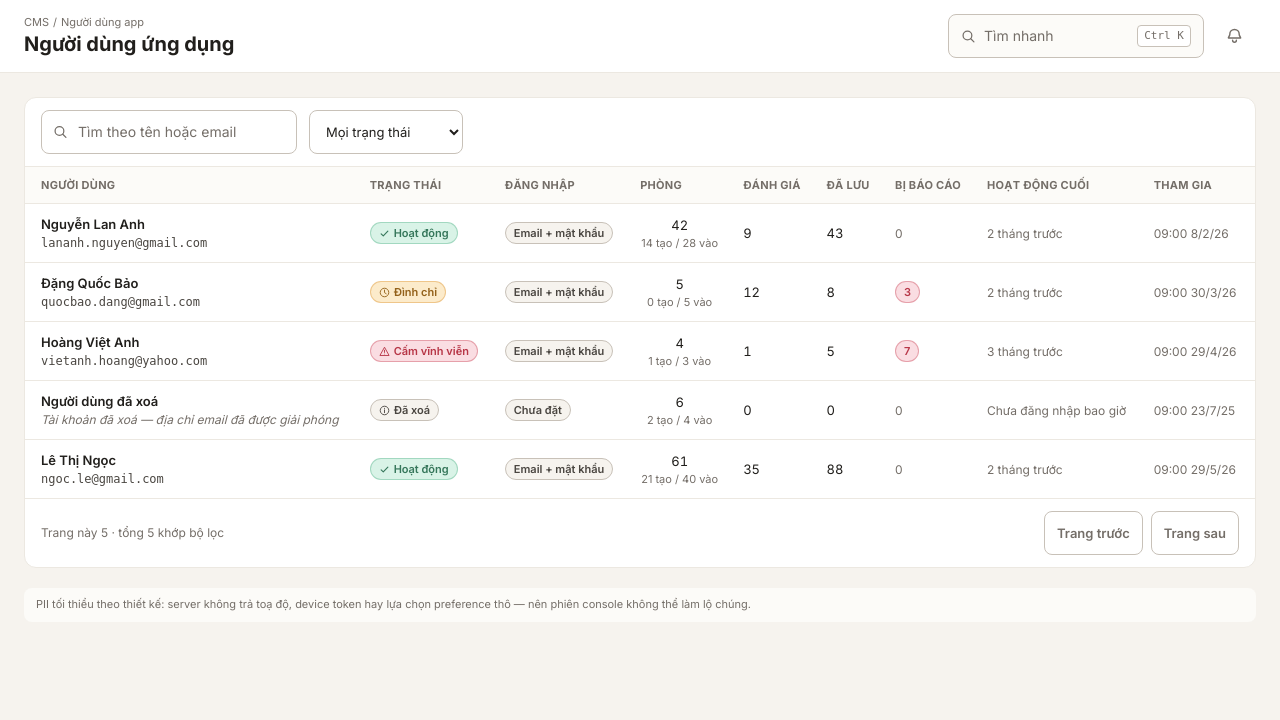
Test: secure export — direct user export (GoGo-BE#256) › explains 503 EXPORT_UNAVAILABLE in the console language
This screenshot has width=1280, height=720.
Step 1. Click the text "Nguyễn Lan Anh" → (93, 224), box x1=41 y1=216 x2=145 y2=232
(page scrolled)
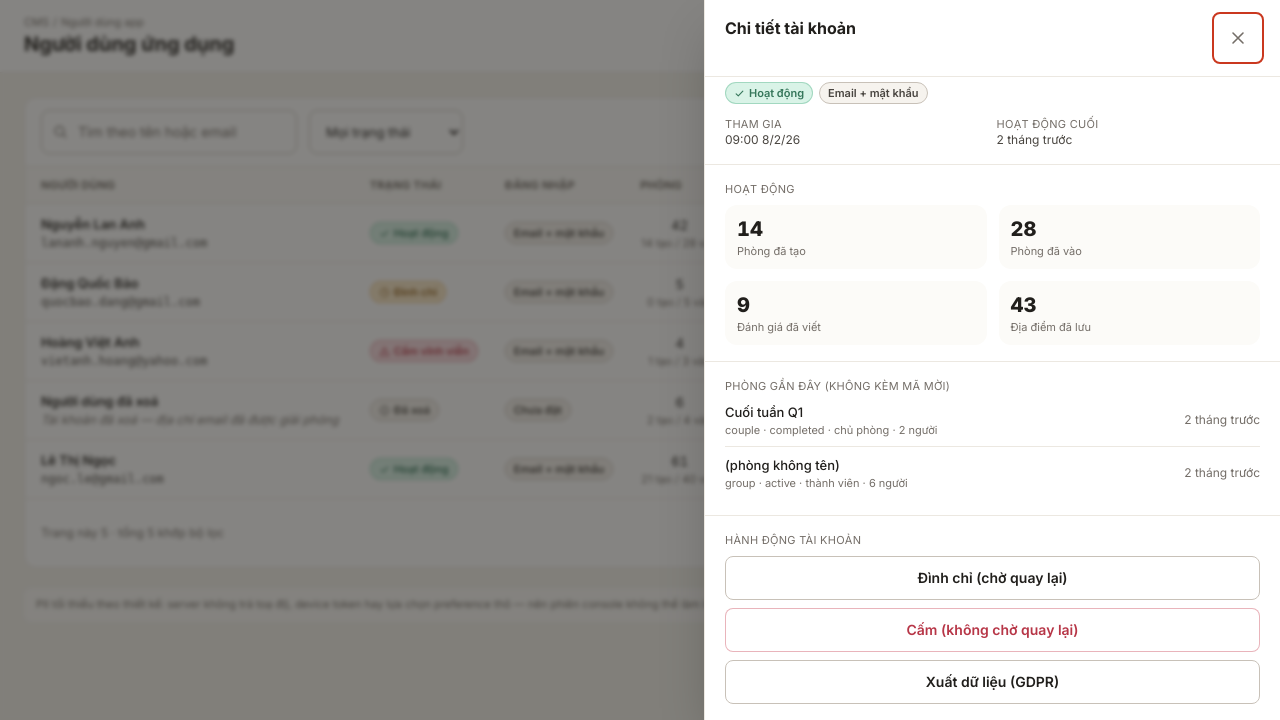
Step 2. Click the button "Xuất dữ liệu (GDPR)" → (992, 682), box x1=725 y1=660 x2=1260 y2=704
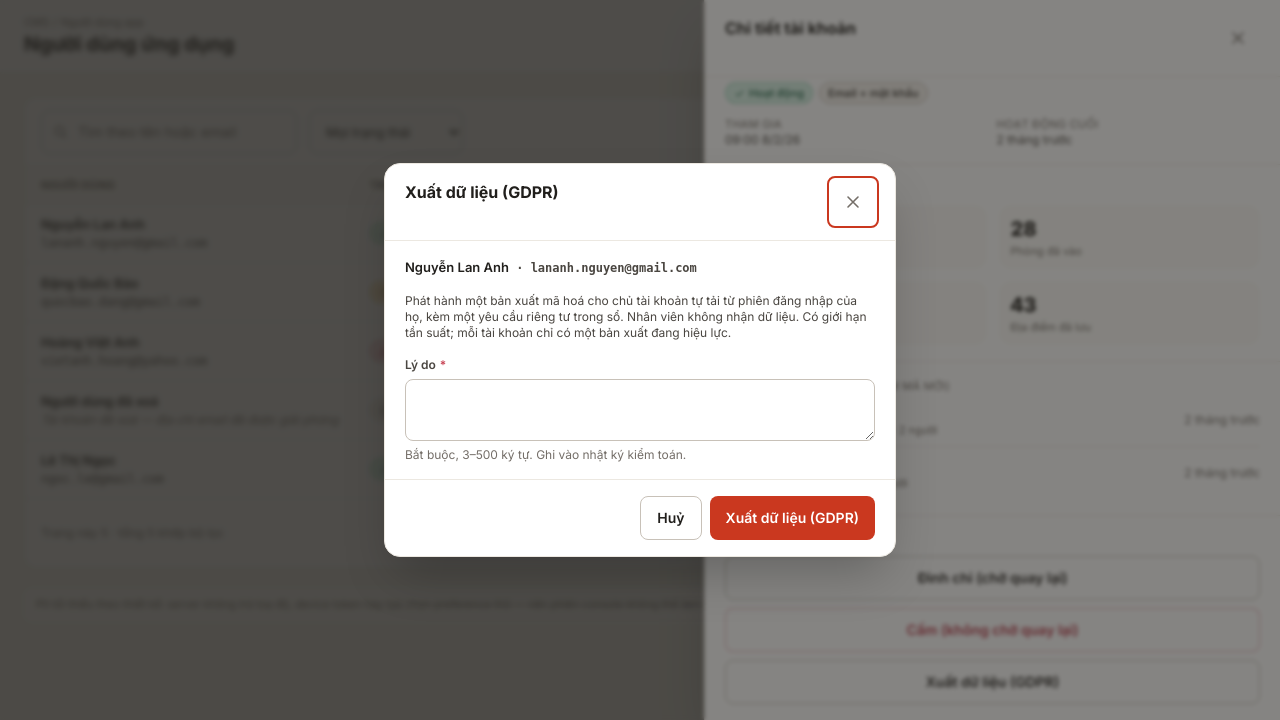
Step 3. Type "SUP-2001 yêu cầu bản sao" into the text box labelled "Lý do*" → (640, 410), box x1=405 y1=379 x2=875 y2=441
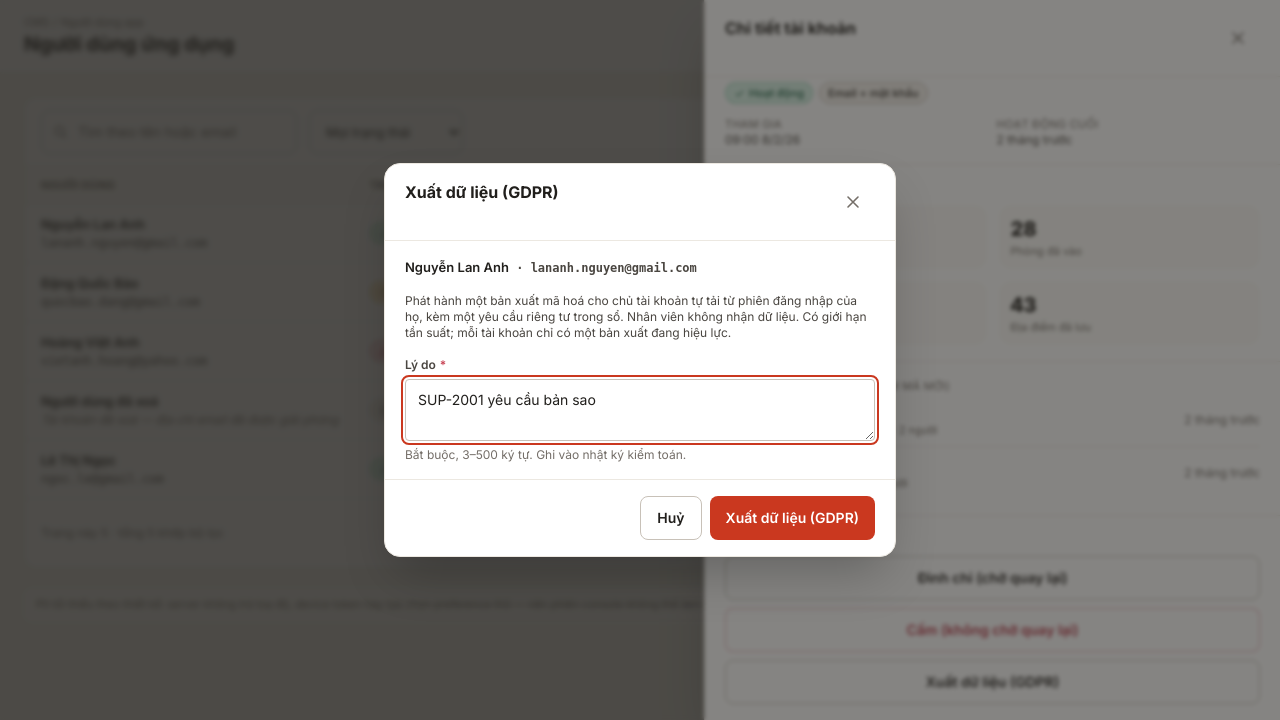
Step 4. Click the button "Xuất dữ liệu (GDPR)" → (792, 518), box x1=710 y1=496 x2=875 y2=540
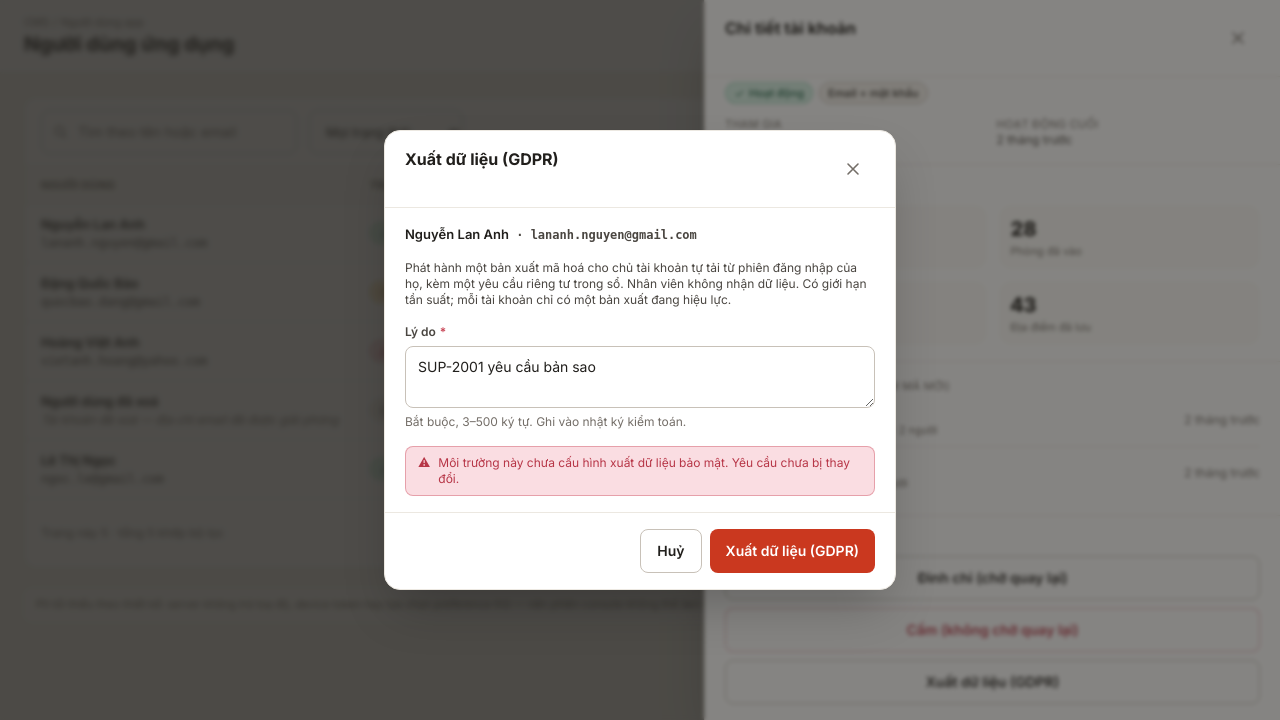
Expected: the text "⚠ Môi trường này chưa cấu hình xuất dữ liệu bảo mật. Yêu cầu chưa bị thay đổi." is shown, x1=405 y1=446 x2=875 y2=496
